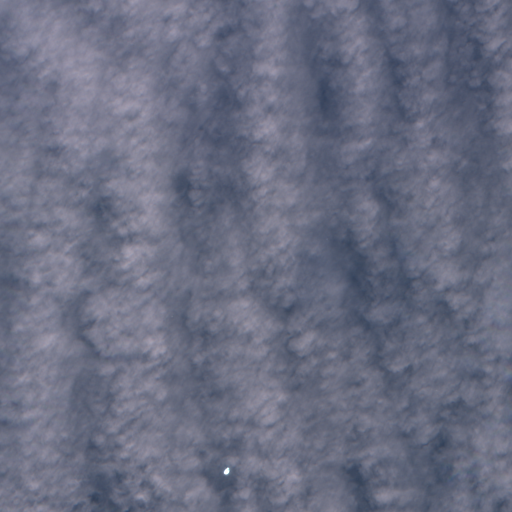Iceberg: (223, 467, 229, 475)
